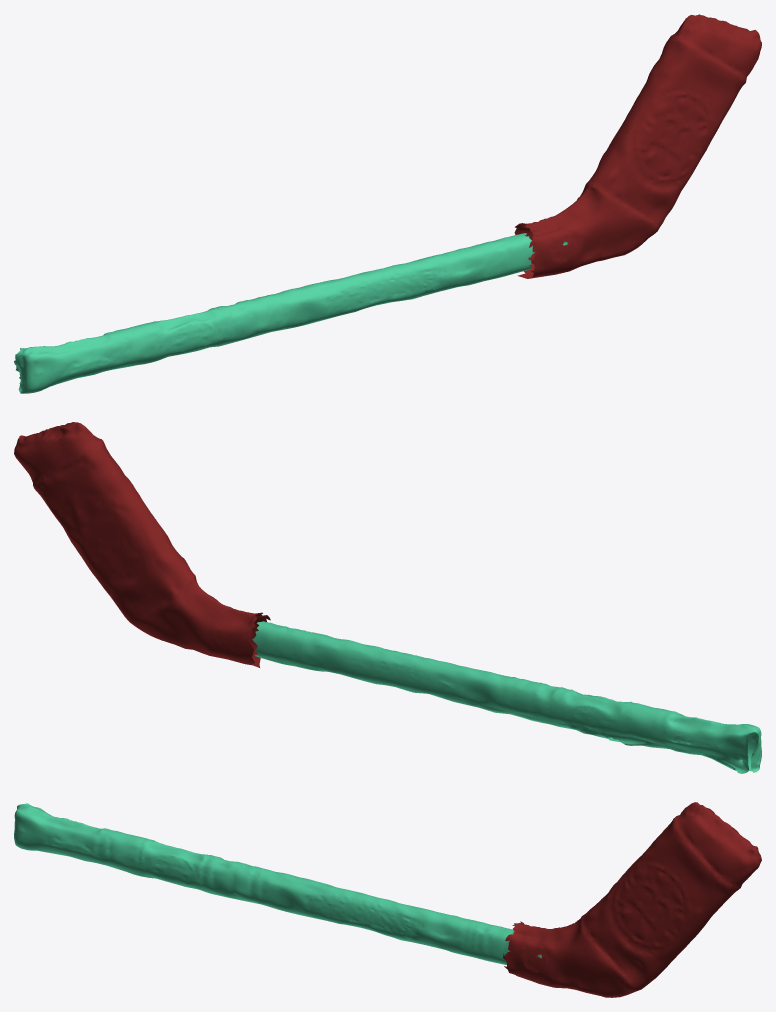
Rendered from object_deformed_3.obj.
3 renders of one model, top to bottom at view 1: azimuth 30°, elevation 25°; view 2: azimuth 150°, elevation 25°; view 3: azimuth 330°, elevation 25°, orthographic. The views are drawn at different scales.
Size of the model in its own units: 0.6064 by 0.1649 by 0.0433.
